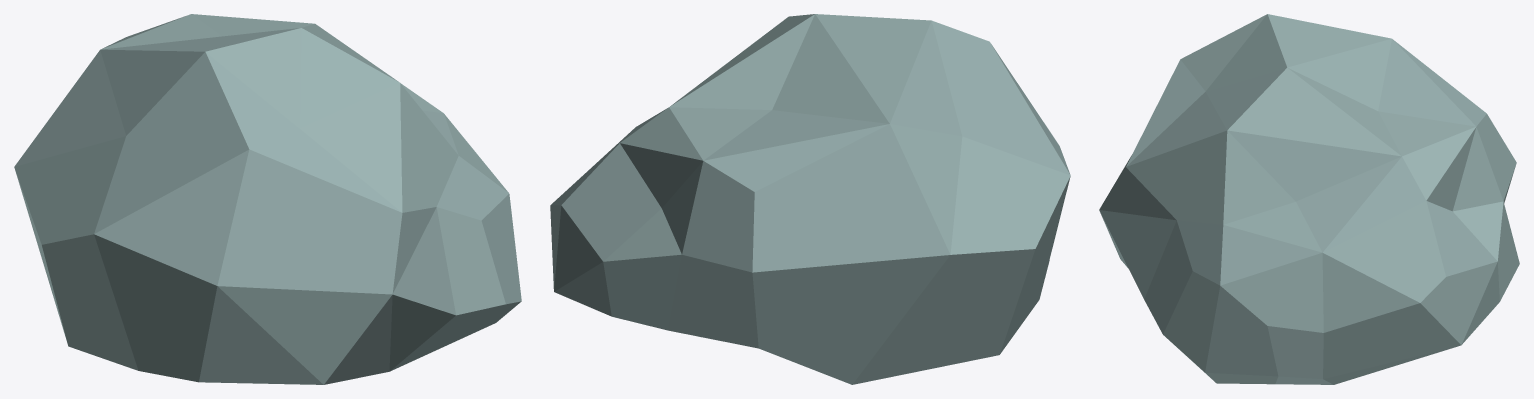
The model's file is crystal_baserock.fbx.
The picture shows the model from 3 angles, left to right: view 1: azimuth 30°, elevation 25°; view 2: azimuth 150°, elevation 25°; view 3: azimuth 270°, elevation 25°; orthographic projection. The views are drawn at different scales.
Parts seen in each view (by area): view 1: Crystal_baserock; view 2: Crystal_baserock; view 3: Crystal_baserock.
Part boxes in pixels (left/top/right/bottom): Crystal_baserock: left=14, top=14, right=521, bottom=384; Crystal_baserock: left=550, top=14, right=1070, bottom=384; Crystal_baserock: left=1099, top=14, right=1519, bottom=384.
Bounding box in the file's own units: 4993 × 3504 × 4945.
